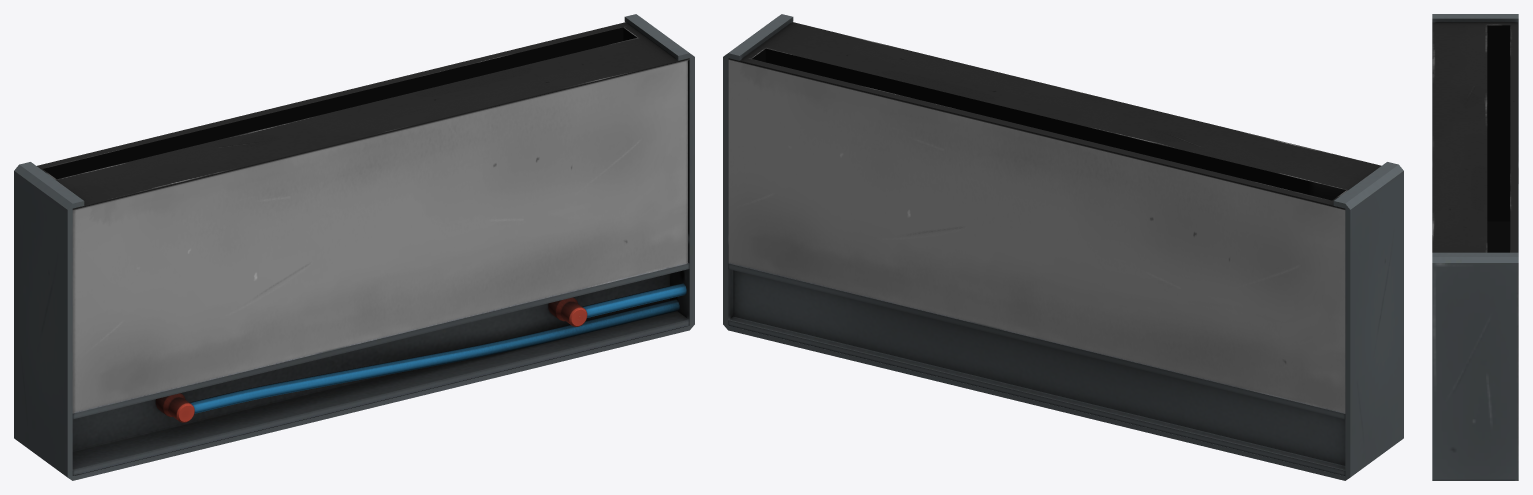
File: StopBladeStruct.glb
The picture shows the model from 3 angles, left to right: view 1: azimuth 30°, elevation 25°; view 2: azimuth 150°, elevation 25°; view 3: azimuth 270°, elevation 25°; orthographic projection. The views are drawn at different scales.
Visible parts, largest first — view 1: StopBladeStruct.001; view 2: StopBladeStruct.001; view 3: StopBladeStruct.001.
Part boxes in pixels (<box>): StopBladeStruct.001: <box>14,14,694,480</box>; StopBladeStruct.001: <box>723,14,1403,480</box>; StopBladeStruct.001: <box>1432,14,1518,480</box>.
Size of the model in its own units: 0.8324 by 0.3516 by 0.123.
1 material, 1 textured.
